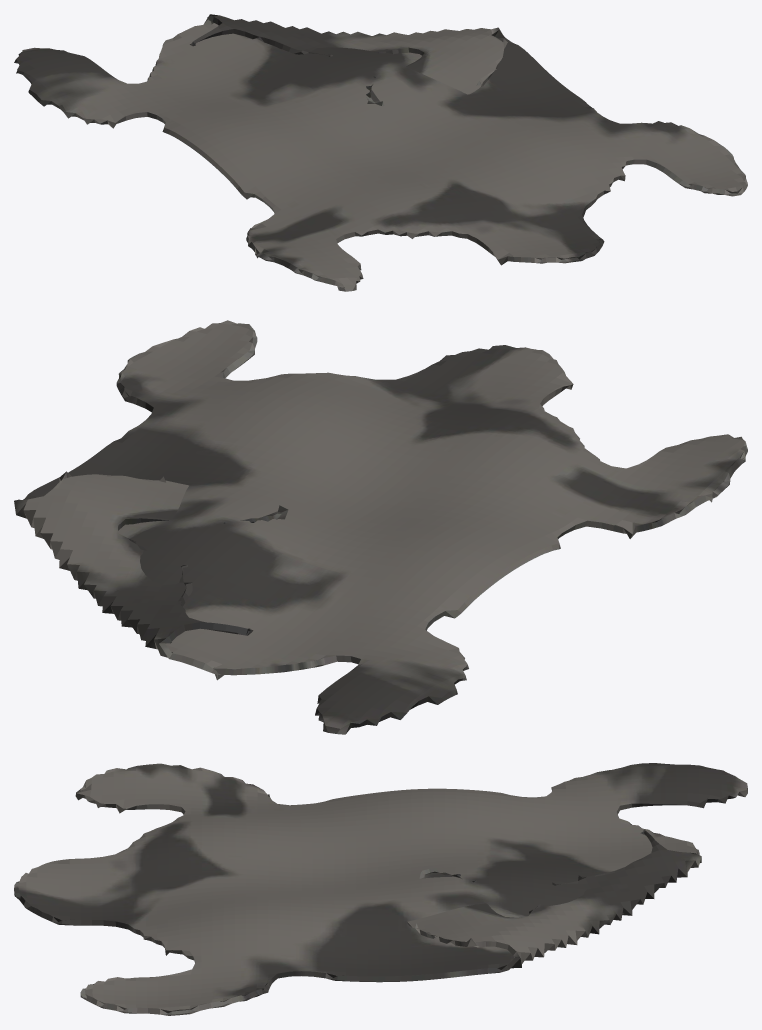
The model's file is wolfsfell.glb.
3 renders of one model, top to bottom at view 1: azimuth 30°, elevation 25°; view 2: azimuth 150°, elevation 25°; view 3: azimuth 270°, elevation 25°, orthographic. The views are drawn at different scales.
Visible parts, largest first — view 1: kuhhaut; view 2: kuhhaut; view 3: kuhhaut.
Part boxes in pixels (x1,y1,x2,y2): kuhhaut: (14,14,747,291); kuhhaut: (14,320,747,734); kuhhaut: (14,763,747,1015).
Size of the model in its own units: 0.712 by 0.0584 by 0.9148.
Materials: 1 (1 with a texture image).
